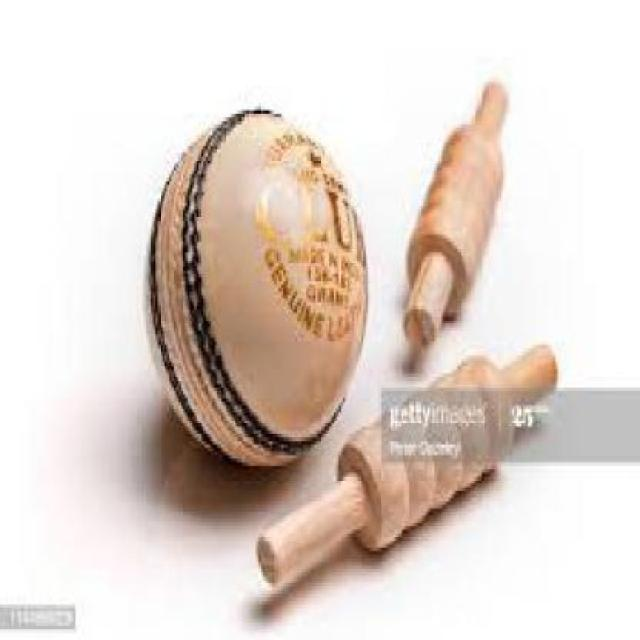ball: (115, 78, 381, 500)
